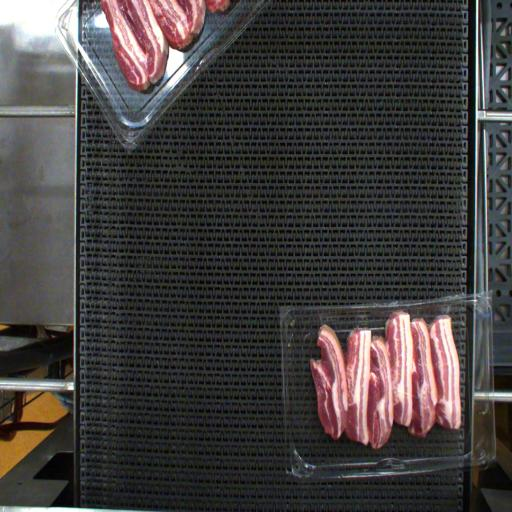packaging-error: (438, 303, 454, 316), (314, 310, 326, 326)
